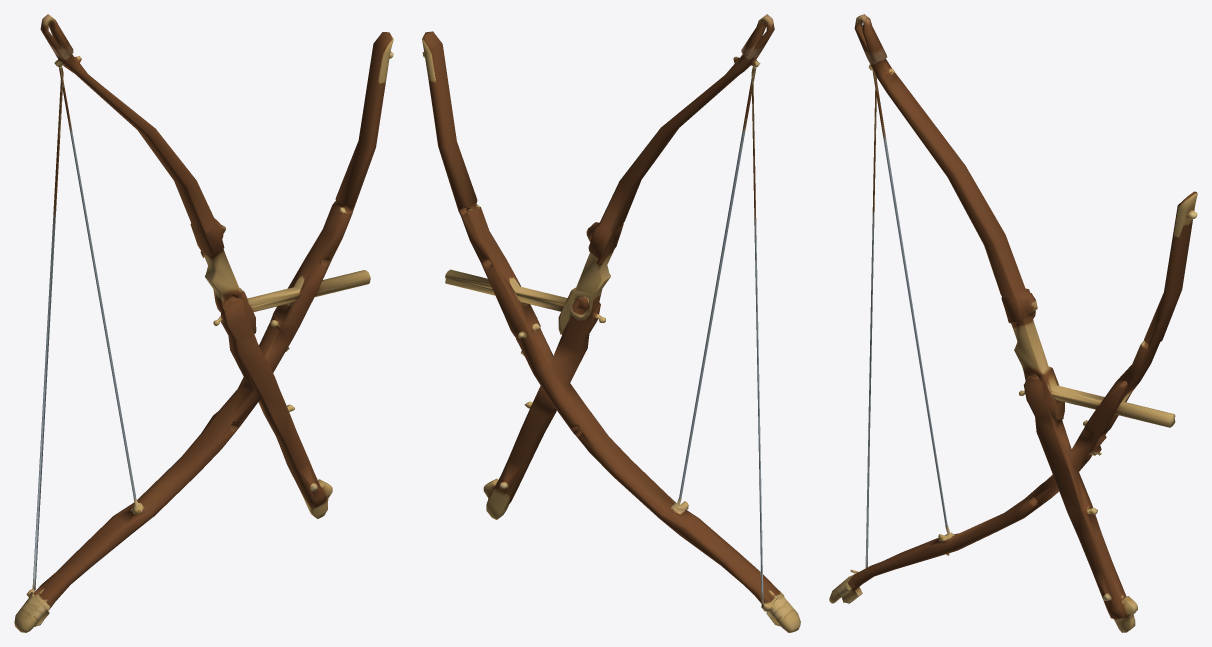
File: gatewatch_shortbow.glb
3 renders of one model, left to right at view 1: azimuth 30°, elevation 25°; view 2: azimuth 150°, elevation 25°; view 3: azimuth 330°, elevation 25°, orthographic. The views are drawn at different scales.
Visible parts, largest first — view 1: base_model_path; view 2: base_model_path; view 3: base_model_path.
Boxes of the visible parts, x1,y1,x2,y2 form: base_model_path: (14,14,393,632); base_model_path: (422,14,800,632); base_model_path: (829,14,1197,632).
Bounding box in the file's own units: 0.6437 × 0.9979 × 0.0607.
Materials: 1 (1 with a texture image).
